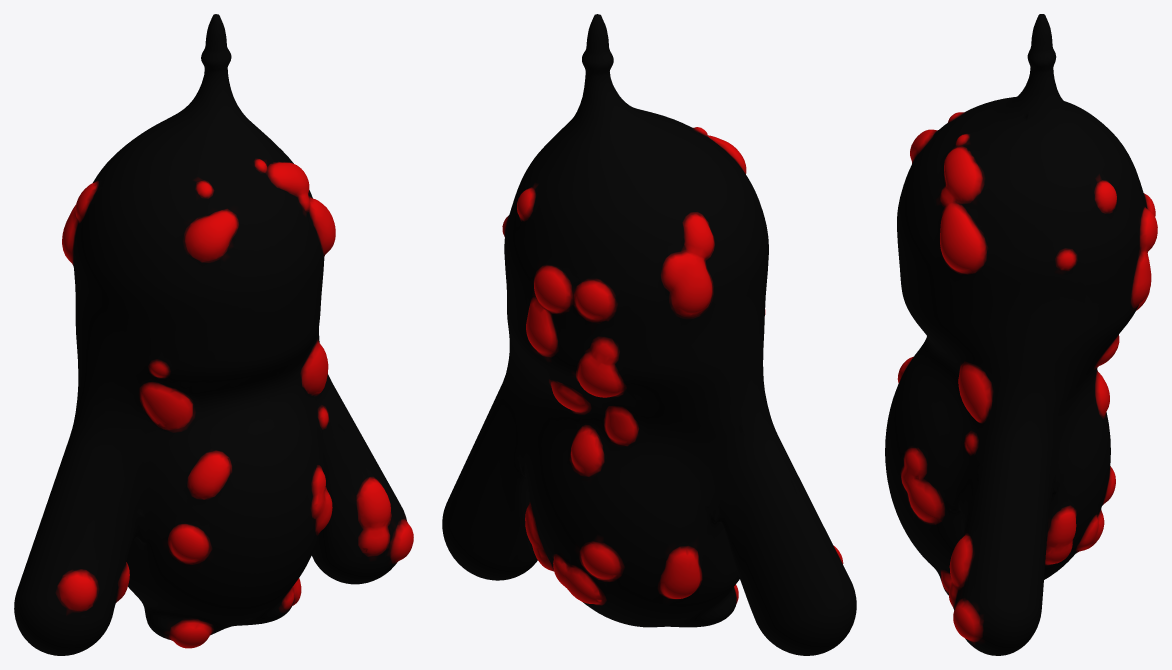
File: body-hero.glb
The picture shows the model from 3 angles, left to right: view 1: azimuth 30°, elevation 25°; view 2: azimuth 150°, elevation 25°; view 3: azimuth 270°, elevation 25°; orthographic projection. The views are drawn at different scales.
Parts seen in each view (by area): view 1: ariseSoulV3; view 2: ariseSoulV3; view 3: ariseSoulV3.
Boxes of the visible parts, x1=… form: ariseSoulV3: x1=14, y1=14, x2=413, y2=655; ariseSoulV3: x1=442, y1=14, x2=856, y2=655; ariseSoulV3: x1=885, y1=14, x2=1157, y2=655.
Size of the model in its own units: 1.45 by 2.11 by 0.8937.
